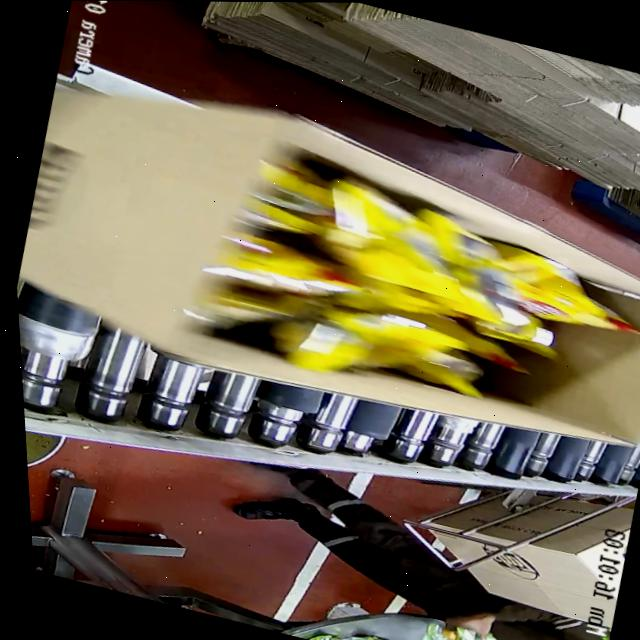SALTED: (191, 142, 640, 430)
